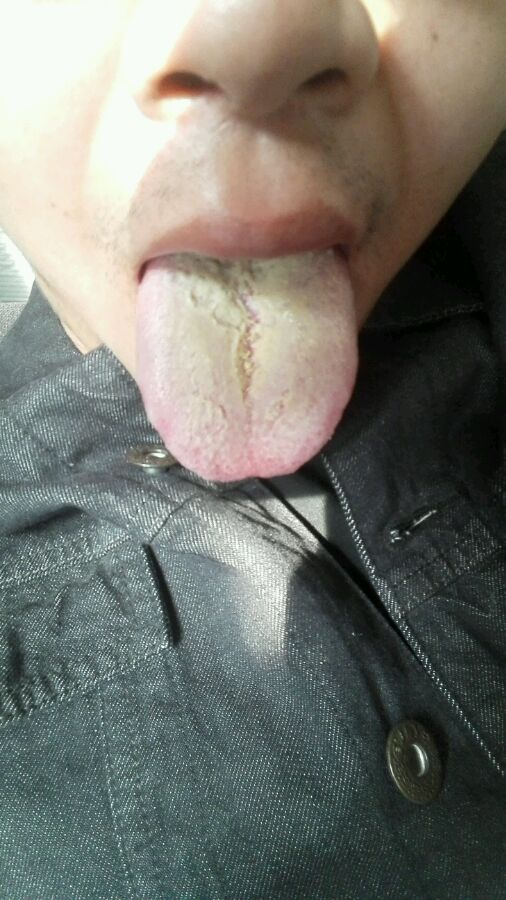huangtaishe: (134, 245, 358, 481)
liewenshe: (211, 257, 261, 400)
